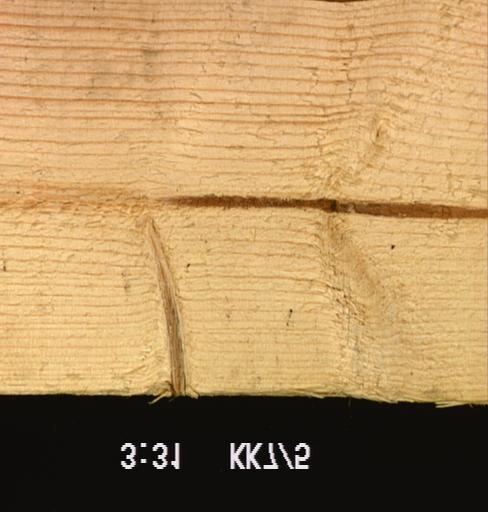small_knot: (381, 238, 407, 261)
